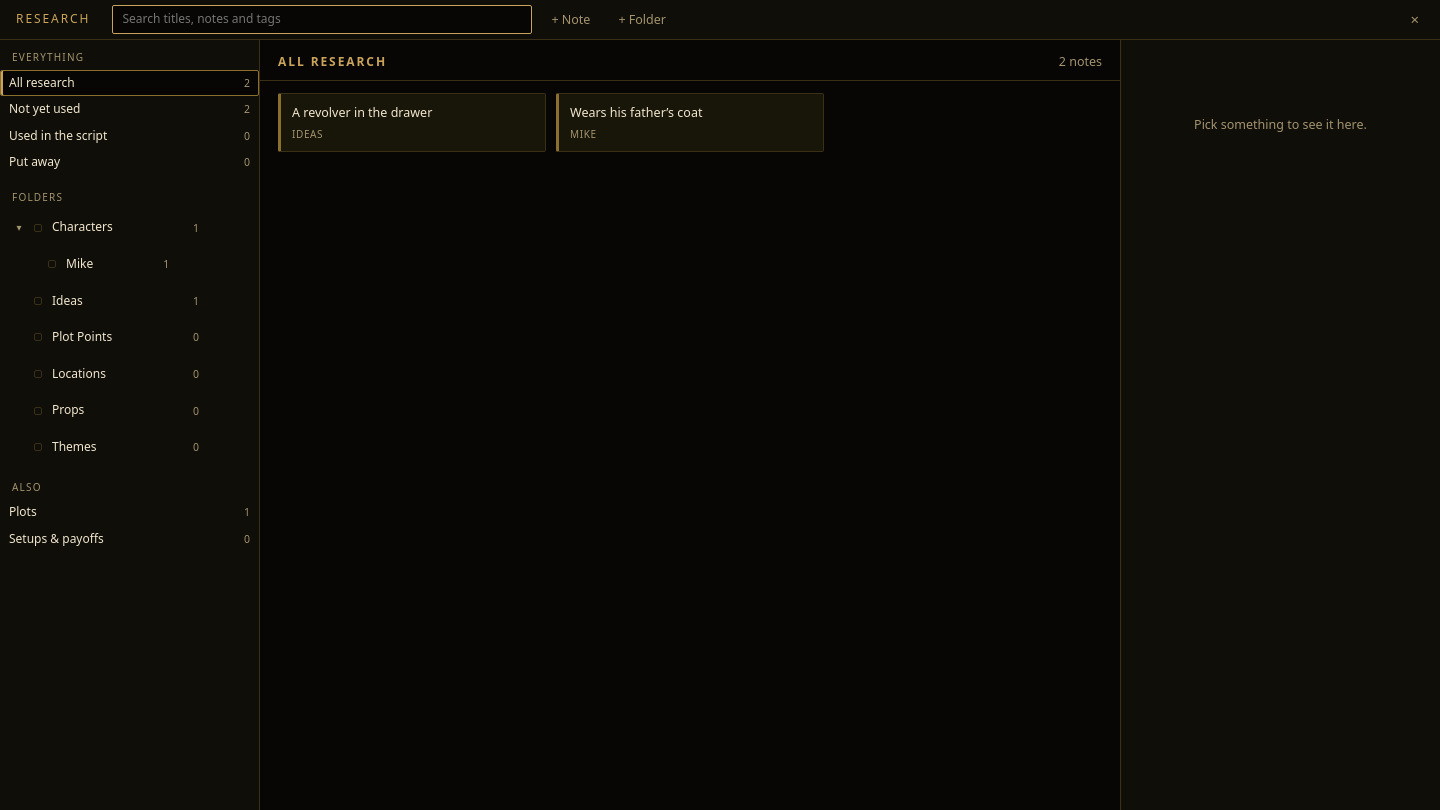
it: the research window › shows a folder with everything under it, and opens a note on the right
Click the button "Characters" at [118, 228], box [47,218,188,237]
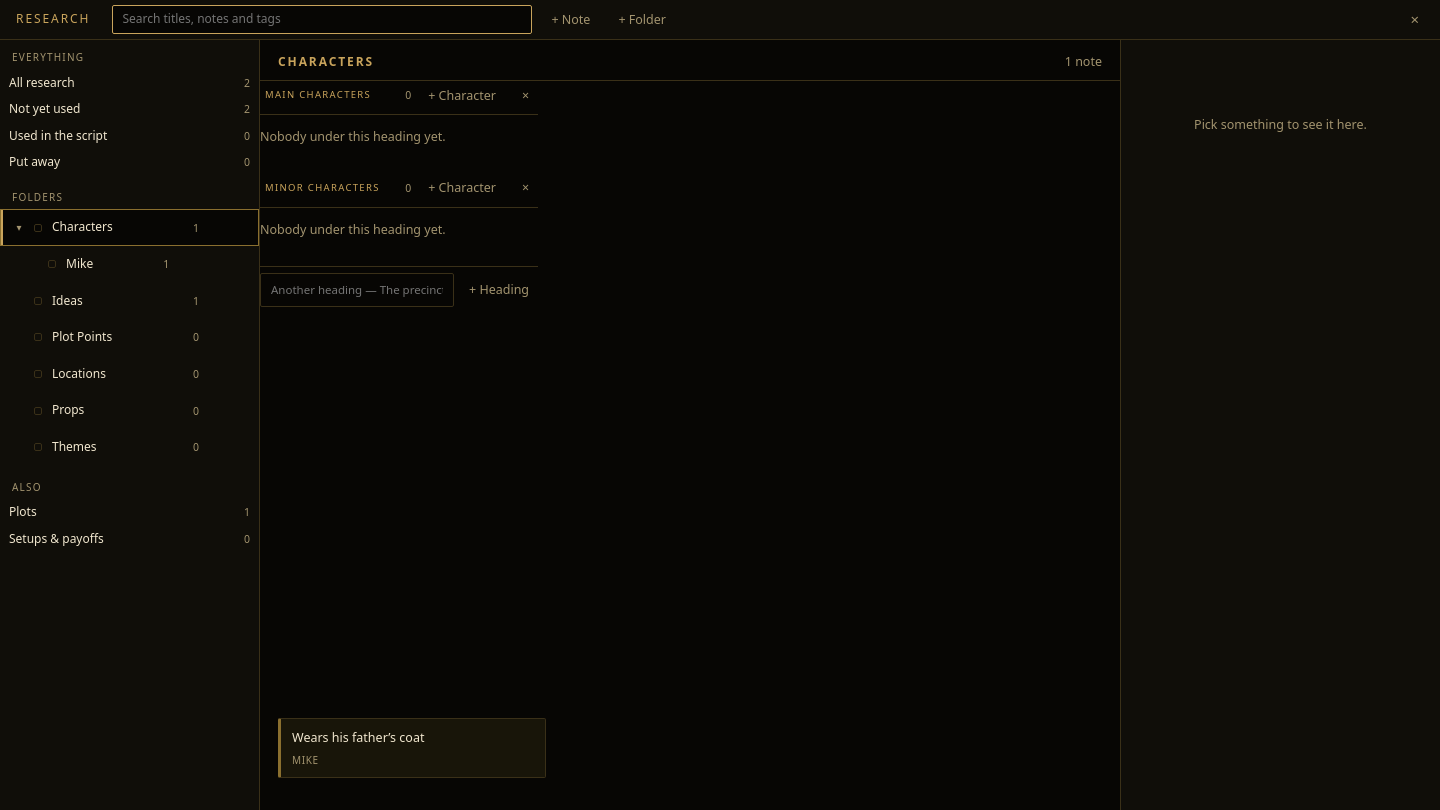
Mike's note is in Characters because it is in a folder under it.
Click the text "Wears his father’s coat" at [358, 738], box [292,728,424,748]
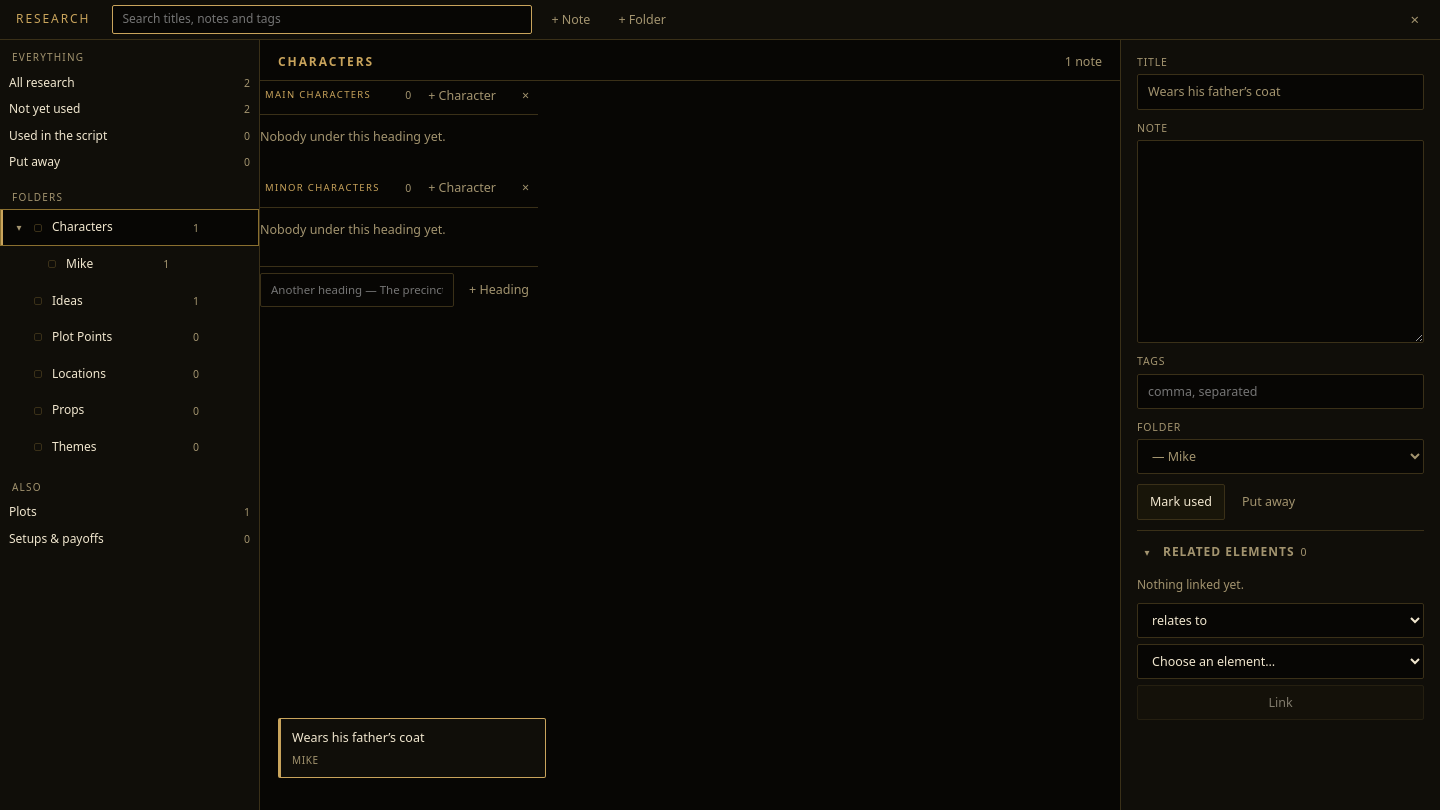
Result: the field labelled "Title" holds "Wears his father’s coat" at [1137,74,1424,110]
